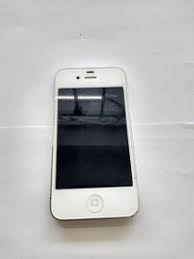iphone: (53, 64, 141, 222)
iphone4: (51, 64, 139, 222)
